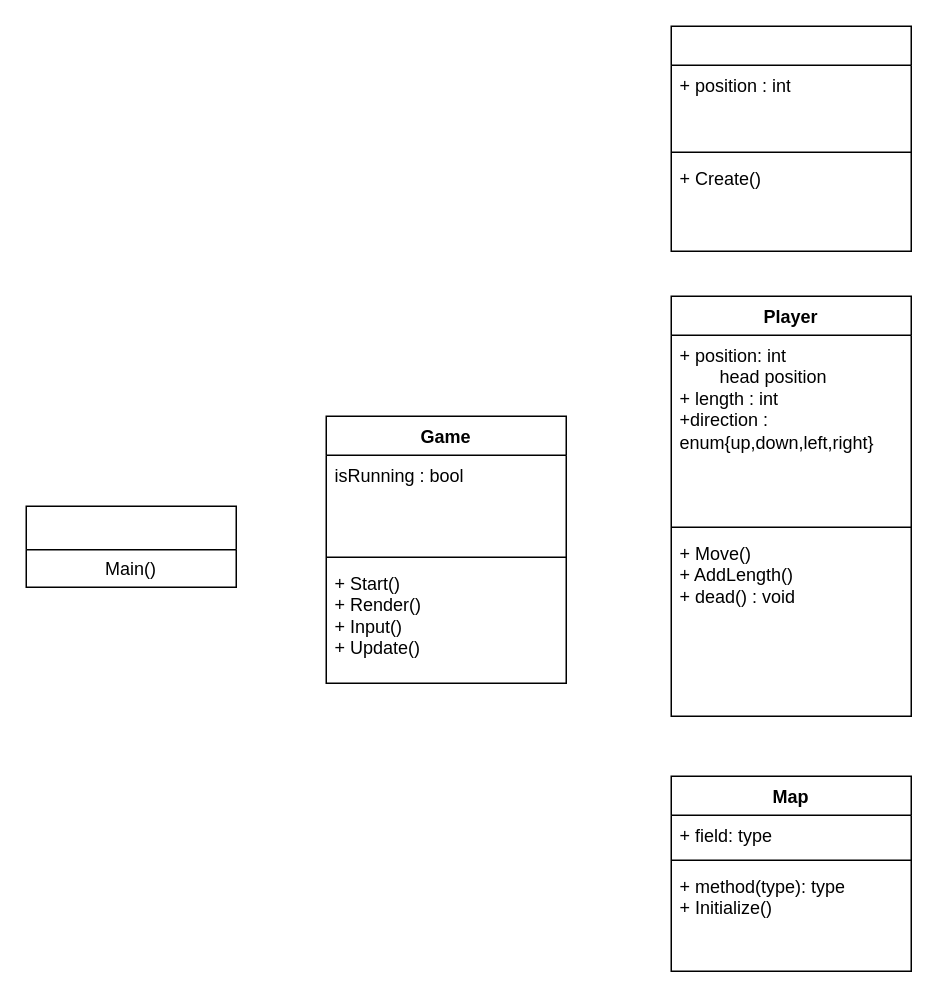
This 938x1002 diagram has some shape labels left out. Here are the shapes that lost their labels. From the top down, the box of each, then its label:
(670, 25, 911, 251): Bait
(25, 505, 236, 587): Program
